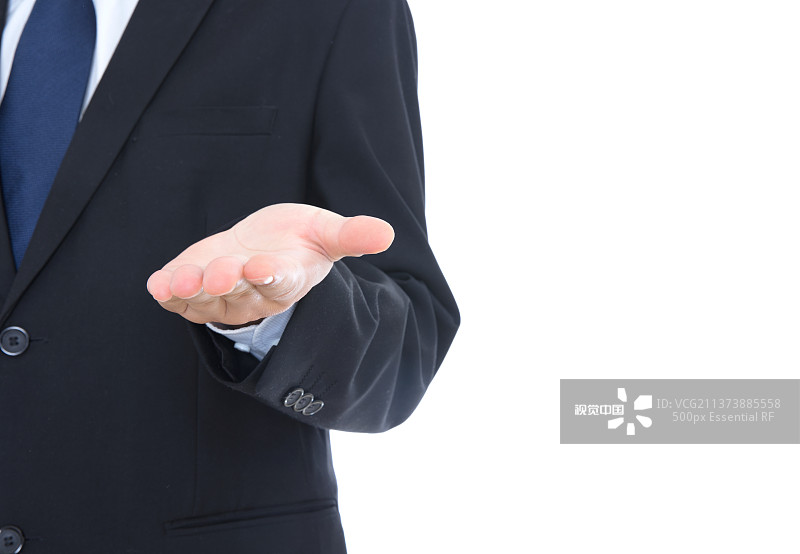no-phone: (116, 183, 421, 349)
